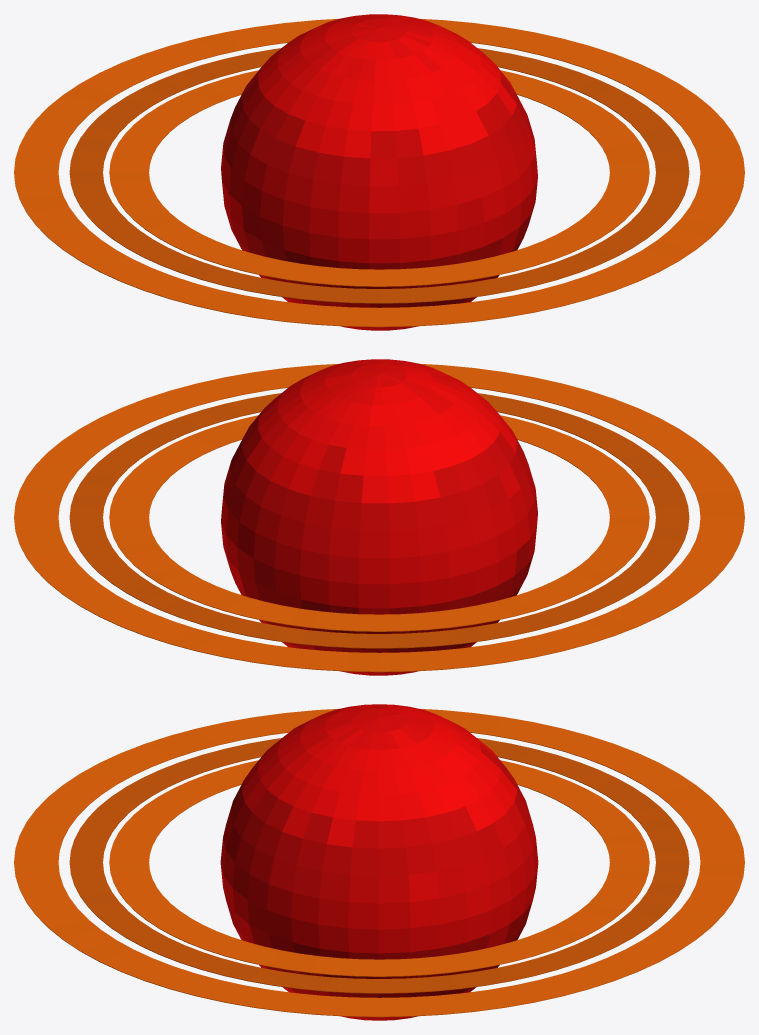
Rendered from planet_mareth.glb.
3 views of the same model, one above another, from view 1: azimuth 30°, elevation 25°; view 2: azimuth 150°, elevation 25°; view 3: azimuth 270°, elevation 25° (orthographic).
Visible parts, largest first — view 1: planet_mareth; view 2: planet_mareth; view 3: planet_mareth.
Part boxes in pixels (x1,y1,x2,y2): planet_mareth: (14, 14, 744, 330); planet_mareth: (14, 359, 744, 675); planet_mareth: (14, 704, 744, 1020).
Bounding box in the file's own units: 4.6 × 2 × 4.6.
